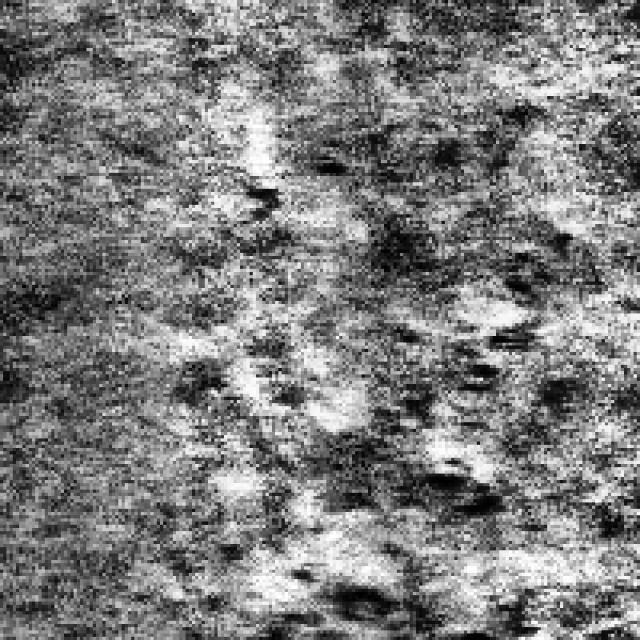Crazing: (422, 221, 573, 518), (256, 556, 525, 634)
